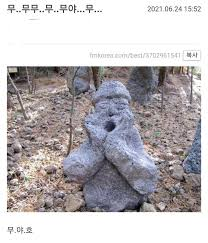Stone Statue: (61, 75, 156, 212)
